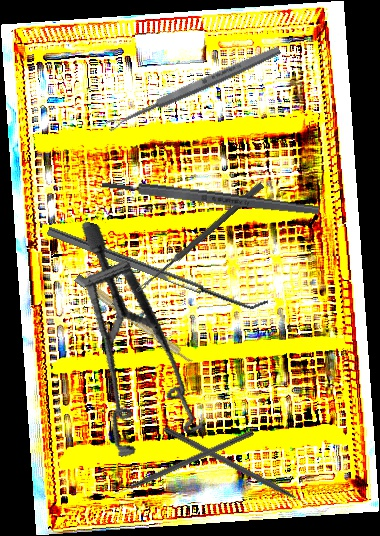Hook Surgical: (162, 425, 322, 515), (104, 428, 255, 502)
Scalpel Handle: (74, 273, 195, 366), (101, 177, 320, 218)
Spatula Surgical: (46, 218, 270, 318)
Speculum: (25, 220, 249, 476)
Surgical Spoon: (104, 43, 283, 133), (134, 180, 265, 296)
